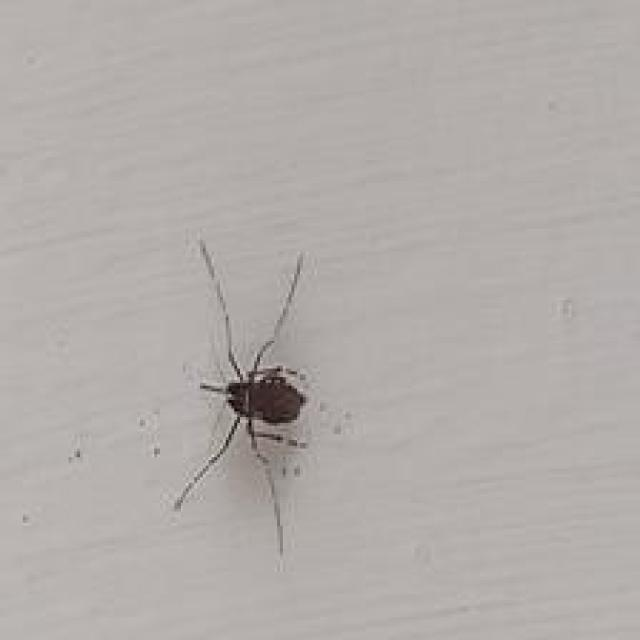Aedes albopictus: (170, 234, 316, 560)
